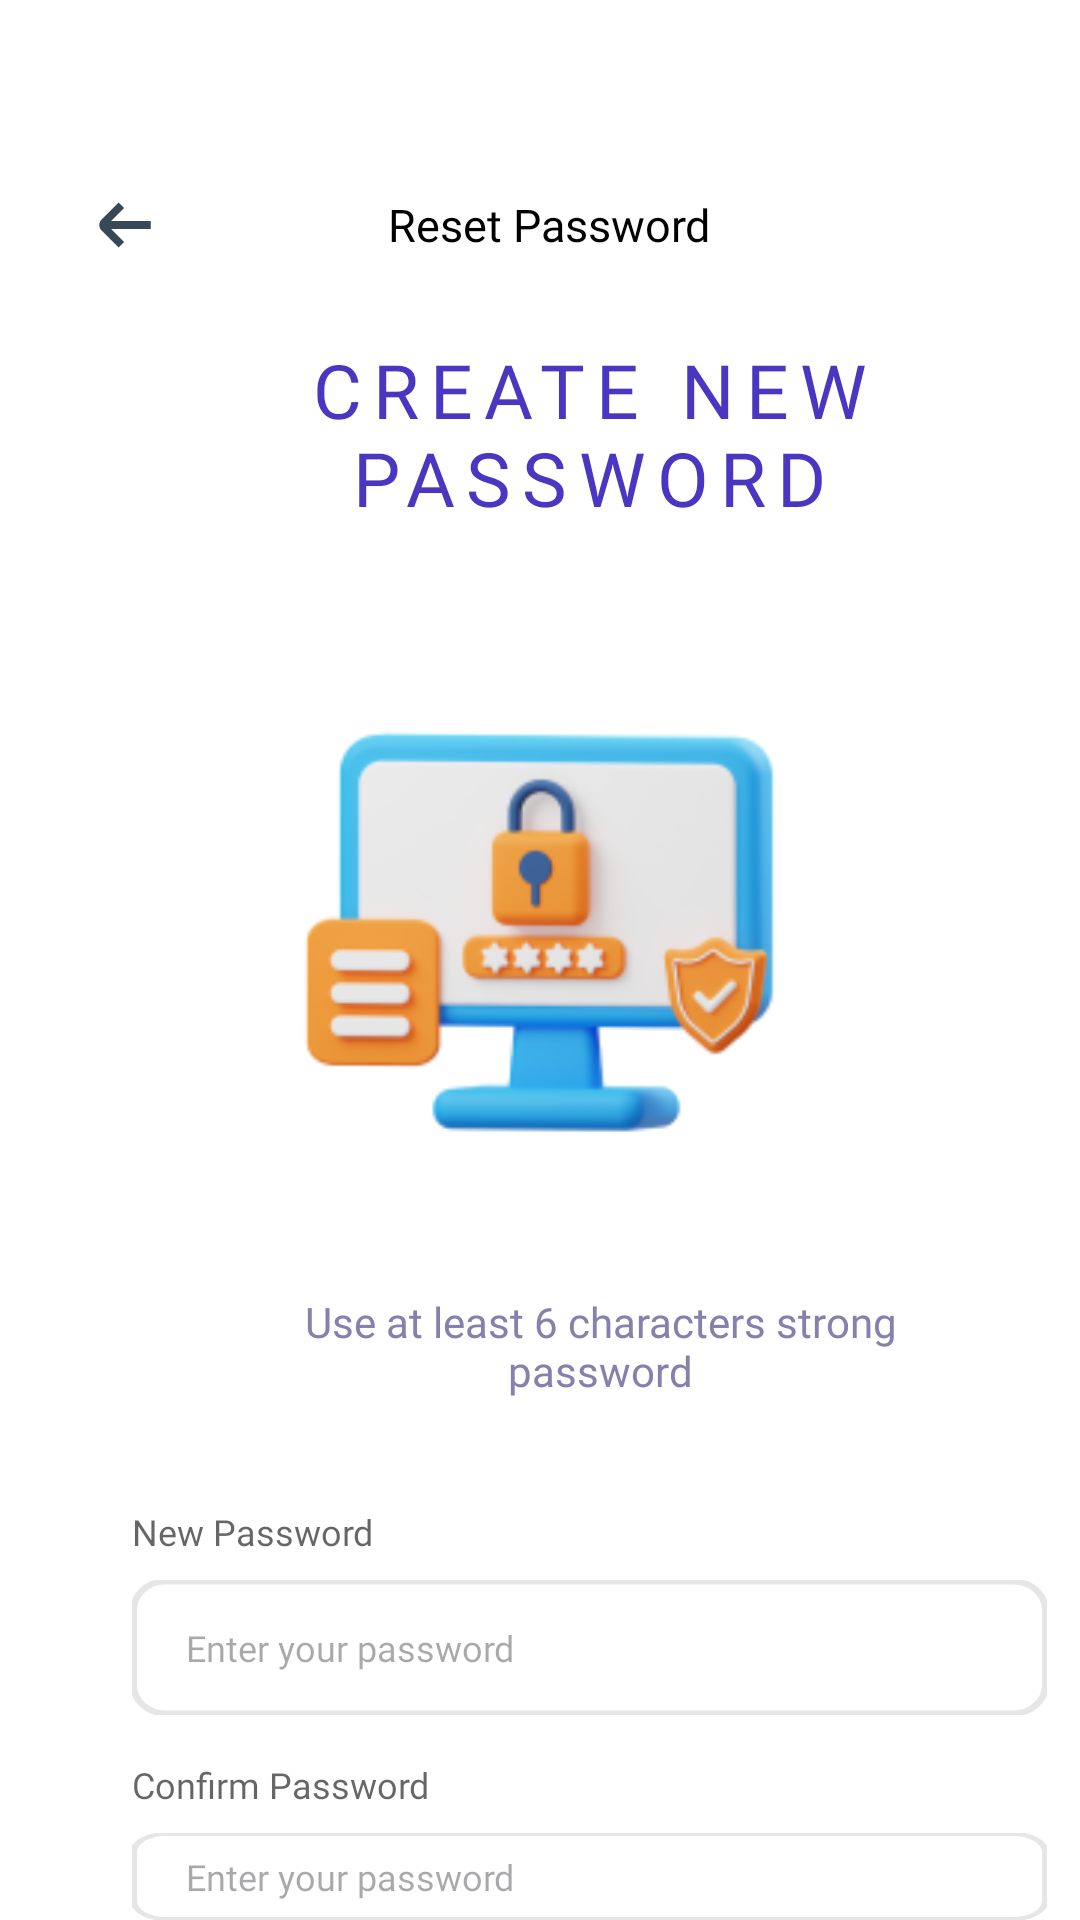

Icons on this 1080*1920 Android screen, each with its box as (x1=x1, y1=y1, x2=x2, y2=y2):
btnback: (x1=99, y1=202, x2=151, y2=248)
